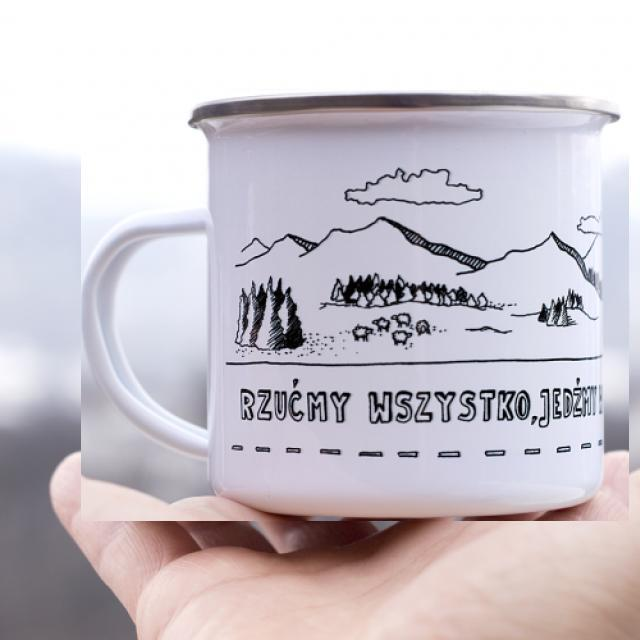Coffee Mug: (84, 90, 618, 516)
